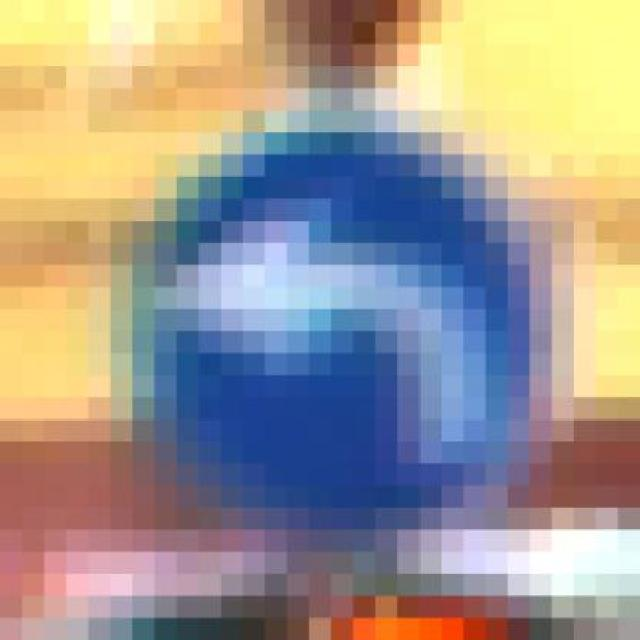Turn left ahead: (111, 111, 574, 574)
